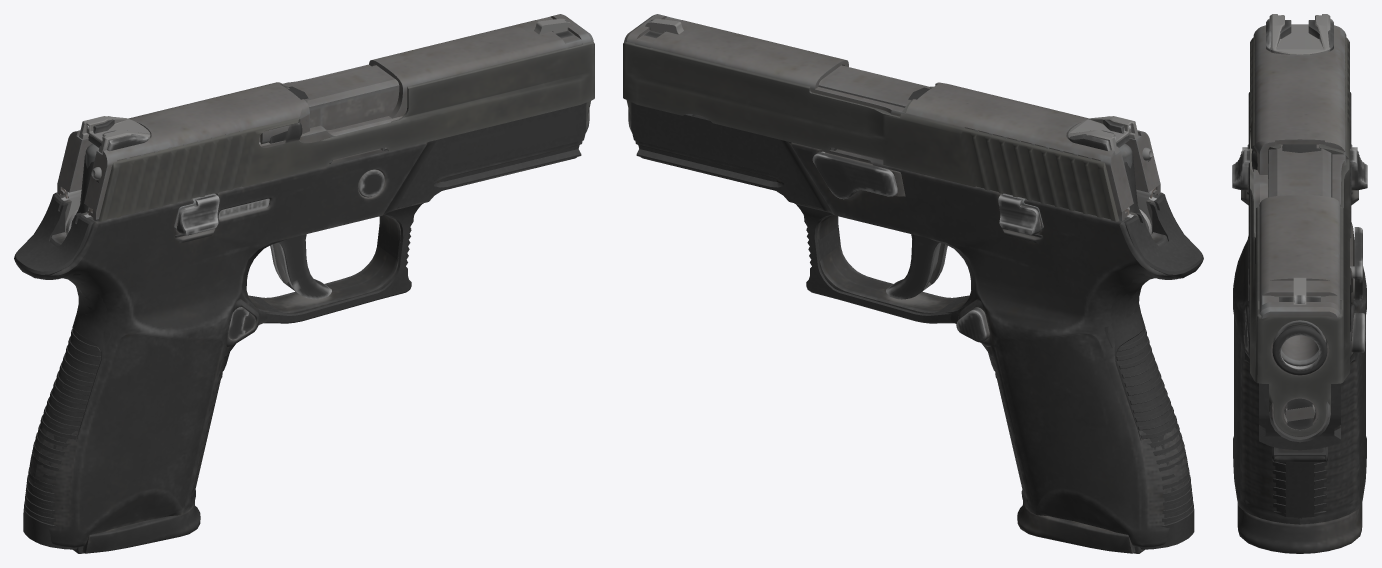
The model's file is weapon_p250.glb.
3 renders of one model, left to right at view 1: azimuth 30°, elevation 25°; view 2: azimuth 150°, elevation 25°; view 3: azimuth 270°, elevation 25°, orthographic. The views are drawn at different scales.
Visible parts, largest first — view 1: weapons/models/p250/weapon_pist_p250.vmdl_c.body_hd, weapons/models/p250/weapon_pist_p250.vmdl_c.body_legacy; view 2: weapons/models/p250/weapon_pist_p250.vmdl_c.body_hd, weapons/models/p250/weapon_pist_p250.vmdl_c.body_legacy; view 3: weapons/models/p250/weapon_pist_p250.vmdl_c.body_hd, weapons/models/p250/weapon_pist_p250.vmdl_c.body_legacy.
Part boxes in pixels (bbox=[...]): weapons/models/p250/weapon_pist_p250.vmdl_c.body_hd: bbox=[27, 19, 594, 553]; weapons/models/p250/weapon_pist_p250.vmdl_c.body_legacy: bbox=[14, 14, 593, 553]; weapons/models/p250/weapon_pist_p250.vmdl_c.body_hd: bbox=[623, 19, 1191, 553]; weapons/models/p250/weapon_pist_p250.vmdl_c.body_legacy: bbox=[624, 14, 1203, 553]; weapons/models/p250/weapon_pist_p250.vmdl_c.body_hd: bbox=[1232, 18, 1367, 553]; weapons/models/p250/weapon_pist_p250.vmdl_c.body_legacy: bbox=[1247, 14, 1354, 518].
Bounding box in the file's own units: 8 × 5.53 × 1.4.
2 materials, 2 textured.
